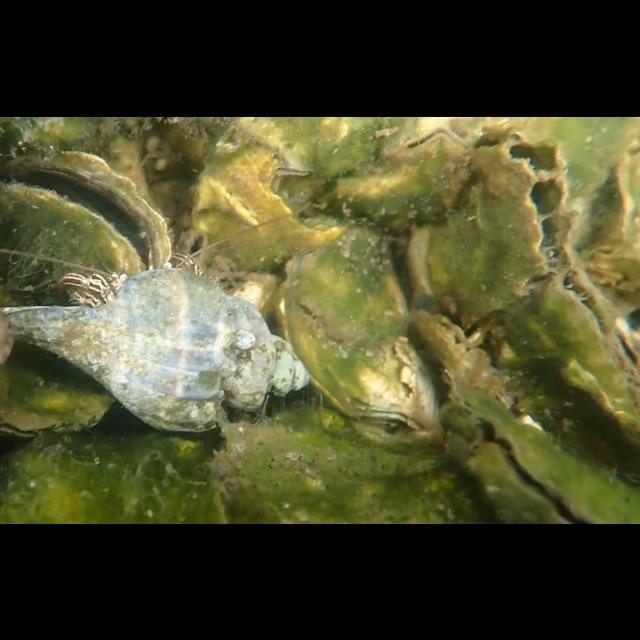Oyster-Closed: (276, 217, 440, 433), (572, 152, 630, 256)
Oyster-Open: (0, 180, 150, 438), (427, 126, 568, 334), (443, 380, 640, 524), (503, 264, 640, 442), (0, 148, 172, 274), (190, 143, 340, 270), (332, 124, 474, 238), (410, 307, 512, 407), (236, 115, 318, 179), (176, 226, 208, 264)
